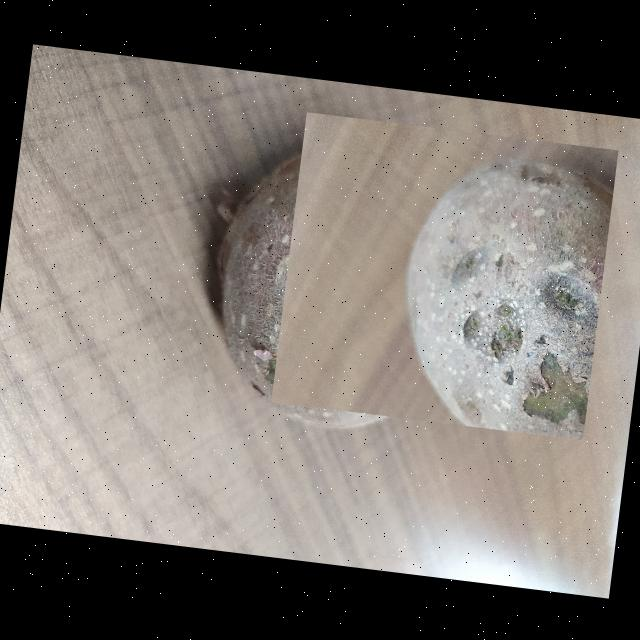Damaged potato: (270, 110, 617, 438)
